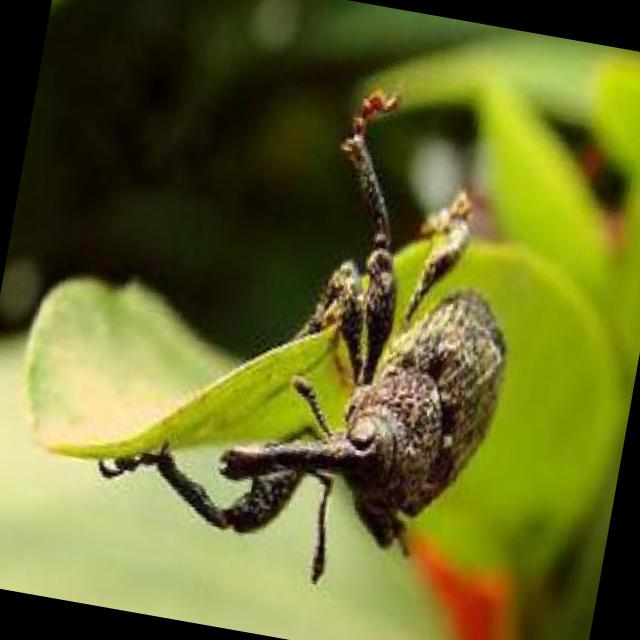rice-bug: (200, 221, 530, 610)
